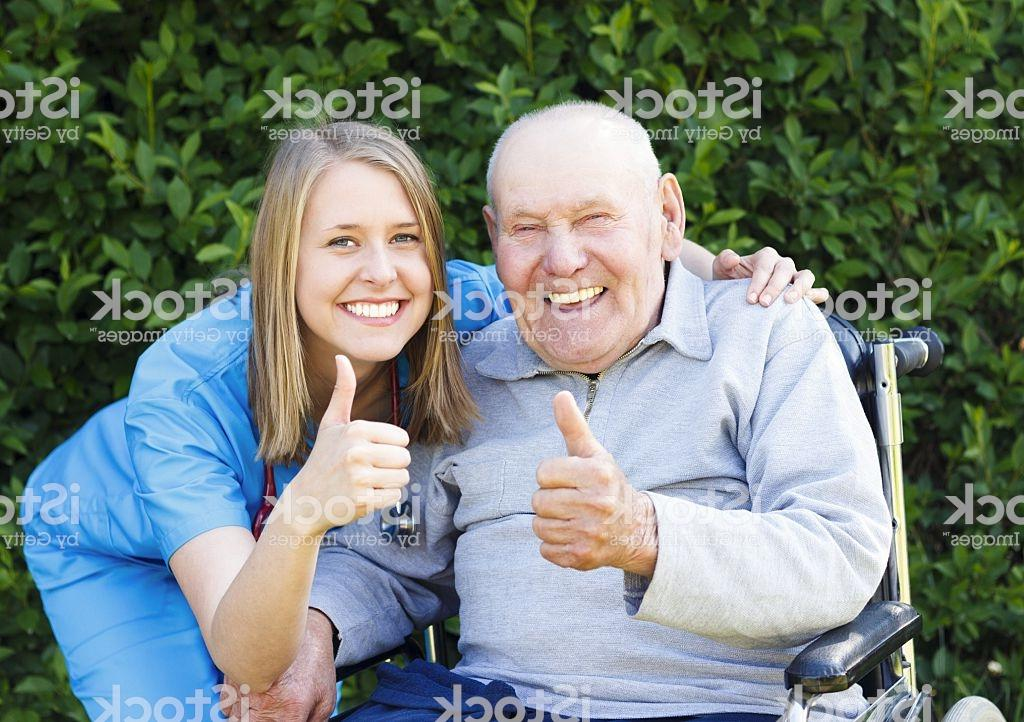thumbsup: (529, 389, 627, 575), (320, 353, 412, 519)
